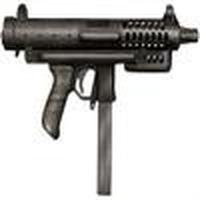gun: (1, 6, 200, 113)
